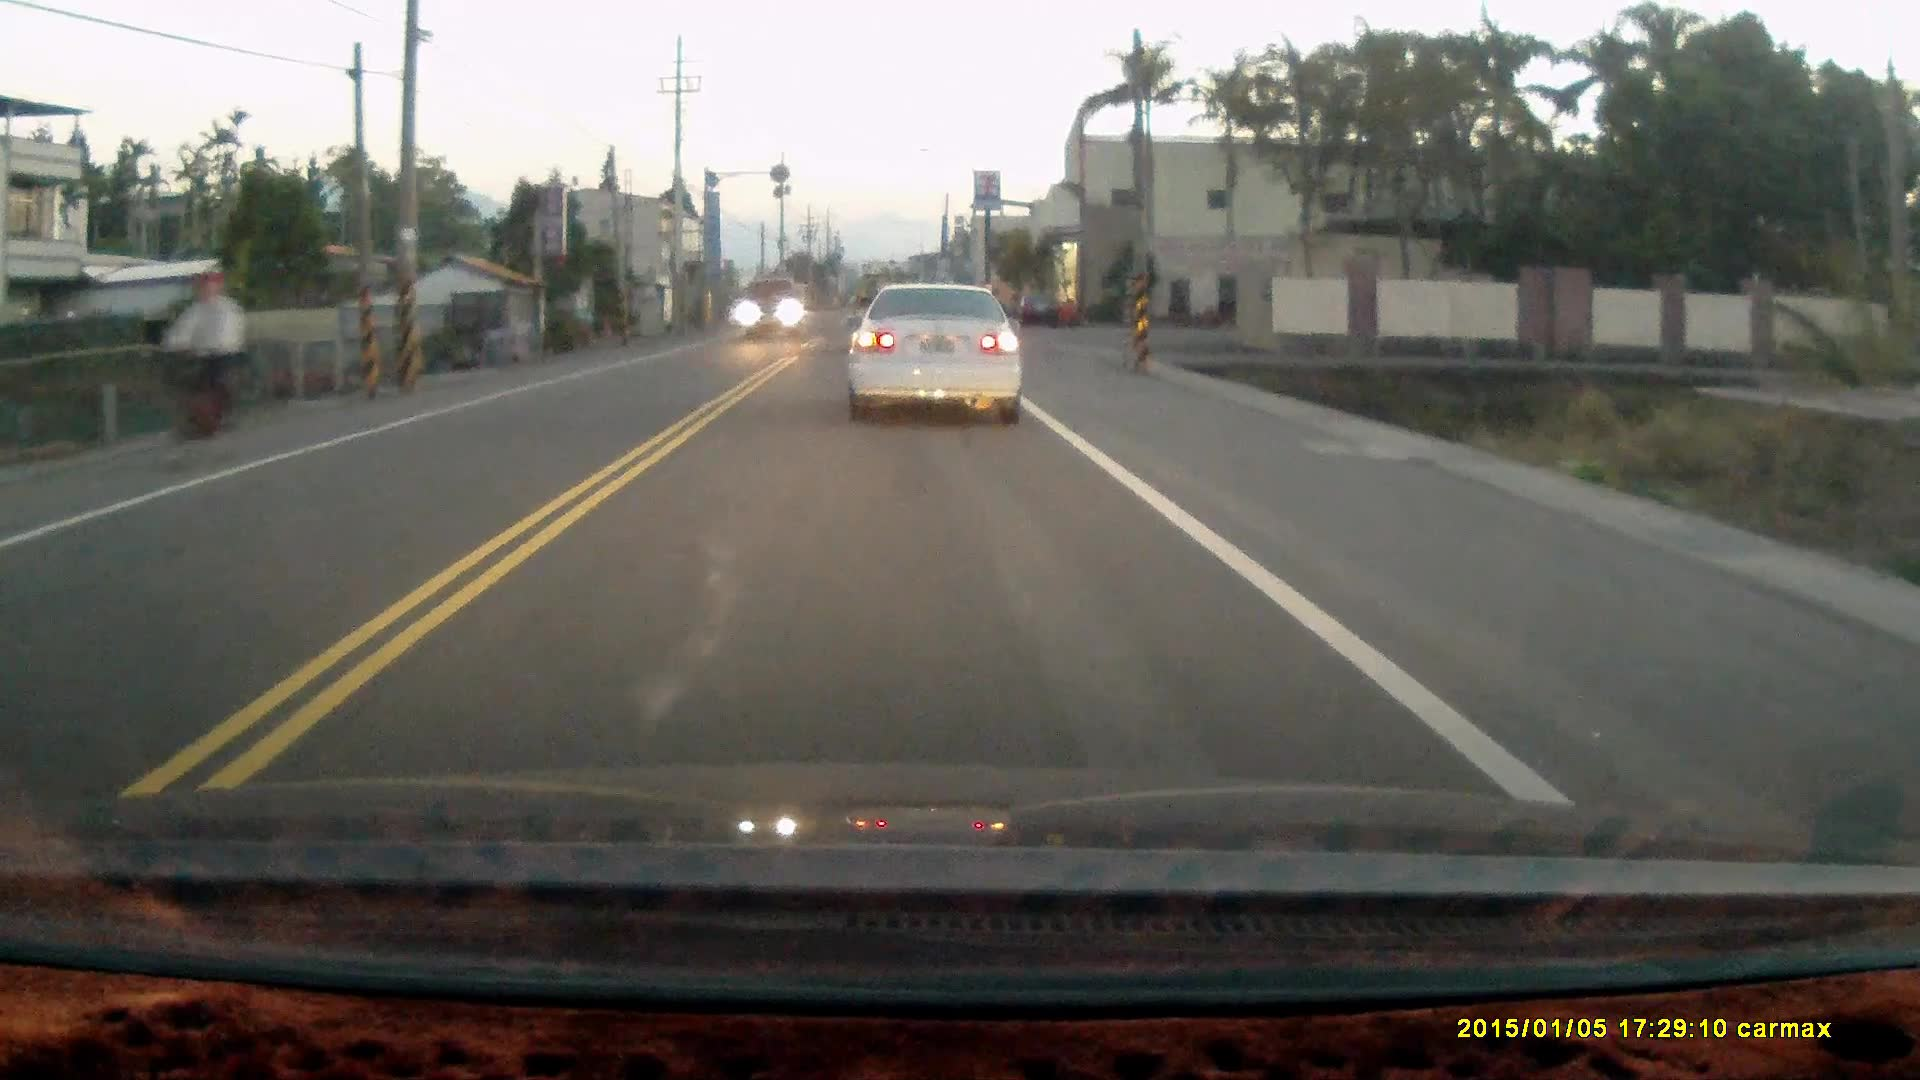rider: (148, 269, 248, 469)
vehicle: (847, 284, 1028, 424), (744, 277, 809, 338), (1012, 282, 1061, 324)
